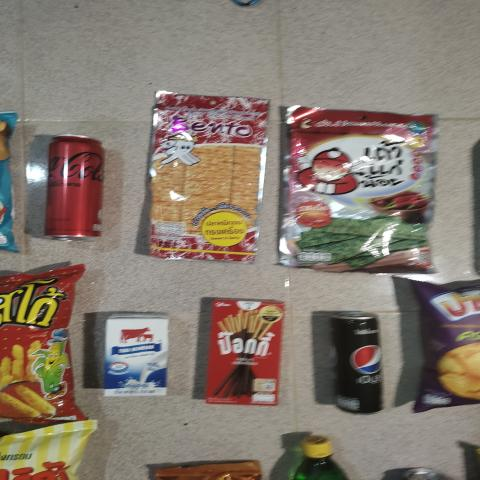bento_red: (149, 86, 265, 268)
coke_red: (46, 138, 103, 233)
pepsi_black: (329, 309, 388, 420)
pokki: (210, 298, 284, 414)
taokaenoi: (284, 119, 428, 265)
thai_denmark: (110, 314, 170, 399)
